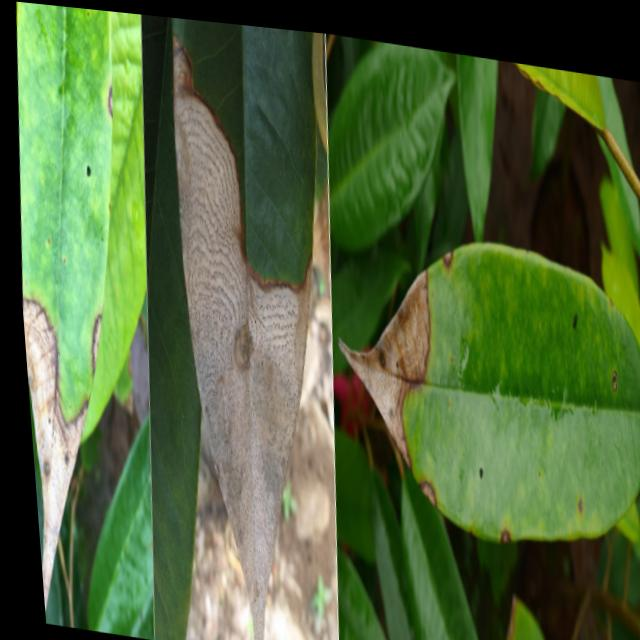Leaf Blight: (134, 20, 350, 640)
